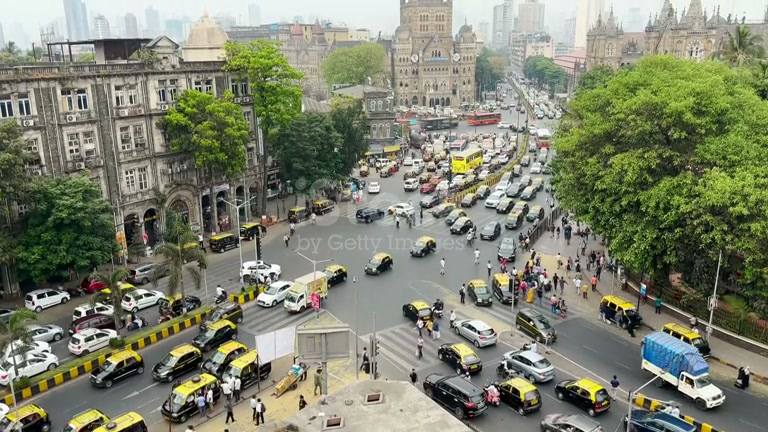car: (639, 332, 727, 411), (159, 371, 221, 422), (424, 373, 489, 420), (554, 376, 613, 417), (628, 403, 709, 432), (151, 342, 203, 383), (90, 351, 144, 390), (62, 408, 149, 432), (502, 345, 555, 384), (492, 375, 542, 416), (662, 322, 711, 356), (515, 307, 558, 345), (438, 341, 483, 377), (0, 403, 52, 432), (67, 327, 117, 357), (452, 317, 498, 348), (539, 411, 605, 432), (192, 322, 236, 353), (121, 288, 167, 314), (24, 288, 70, 312), (256, 281, 293, 309), (462, 278, 494, 307), (25, 323, 66, 344), (364, 251, 393, 276), (445, 211, 474, 236), (410, 235, 438, 259), (477, 219, 502, 241)
truck: (640, 329, 727, 411)
